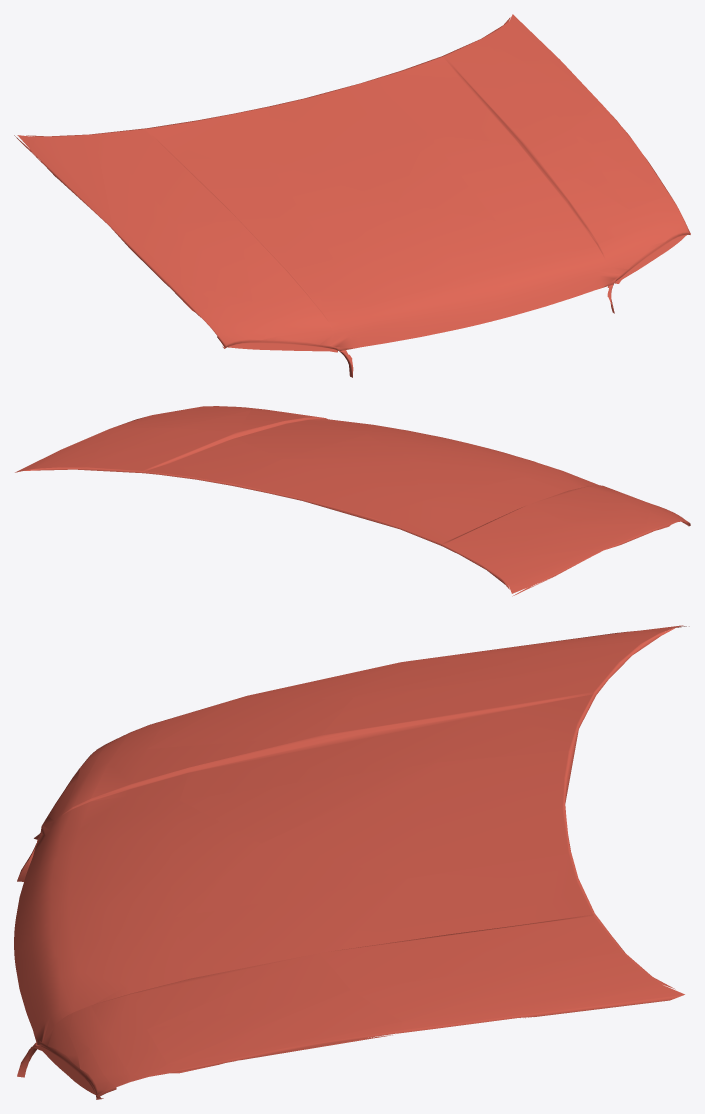
Rendered from wendtStrom_hood_boserMild.glb.
3 renders of one model, top to bottom at view 1: azimuth 30°, elevation 25°; view 2: azimuth 150°, elevation 25°; view 3: azimuth 270°, elevation 25°, orthographic. The views are drawn at different scales.
Parts seen in each view (by area): view 1: hood_boserMild; view 2: hood_boserMild; view 3: hood_boserMild.
Part boxes in pixels (x1,y1,x2,y2): hood_boserMild: (14, 14, 690, 377); hood_boserMild: (15, 406, 690, 596); hood_boserMild: (14, 625, 689, 1099).
Bounding box in the file's own units: 1.44 × 0.3213 × 1.11.
